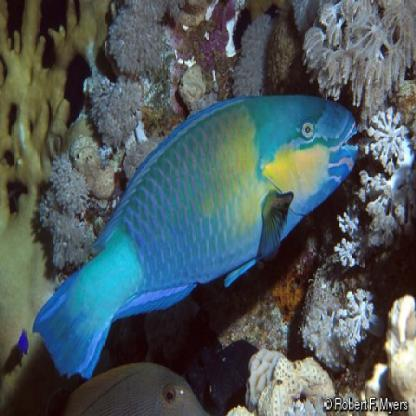parrot: (29, 66, 357, 386)
